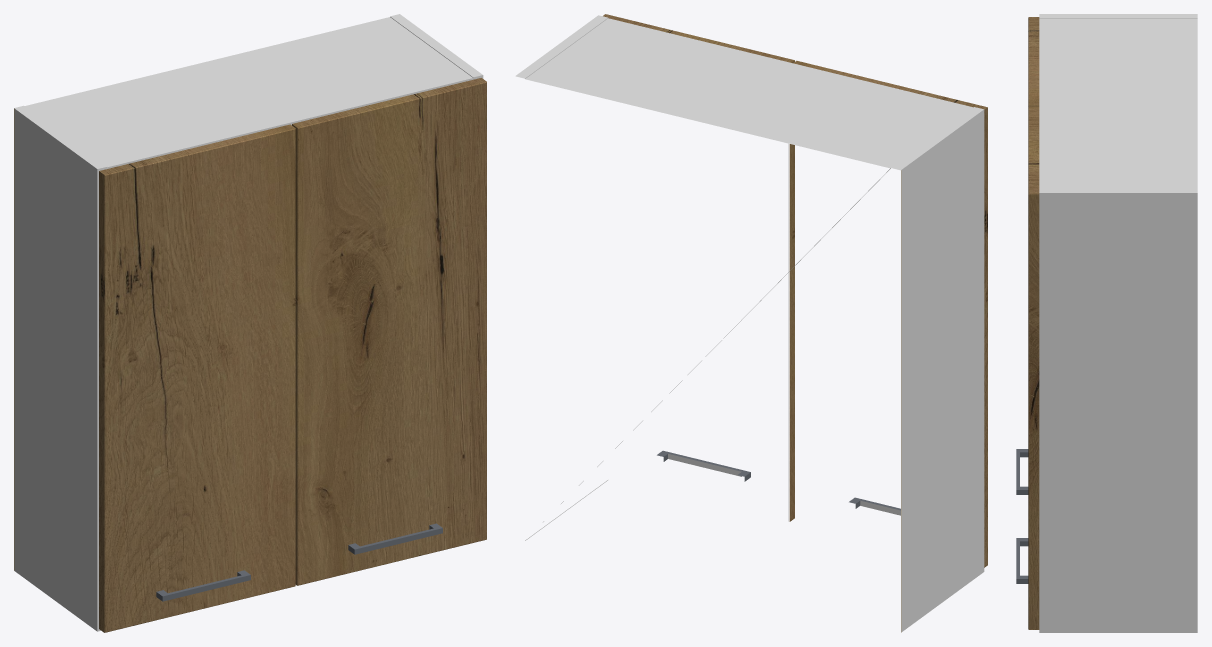
Rendered from gornji_70cm.glb.
3 views of the same model, side by side, from view 1: azimuth 30°, elevation 25°; view 2: azimuth 150°, elevation 25°; view 3: azimuth 270°, elevation 25° (orthographic). The views are drawn at different scales.
Parts seen in each view (by area): view 1: Model; view 2: Model; view 3: Model.
Part boxes in pixels (x1,y1,x2,y2): Model: [14, 14, 486, 632]; Model: [515, 14, 987, 632]; Model: [1016, 14, 1197, 632].
Size of the model in its own units: 700 by 802 by 300.
6 materials, 1 textured.
